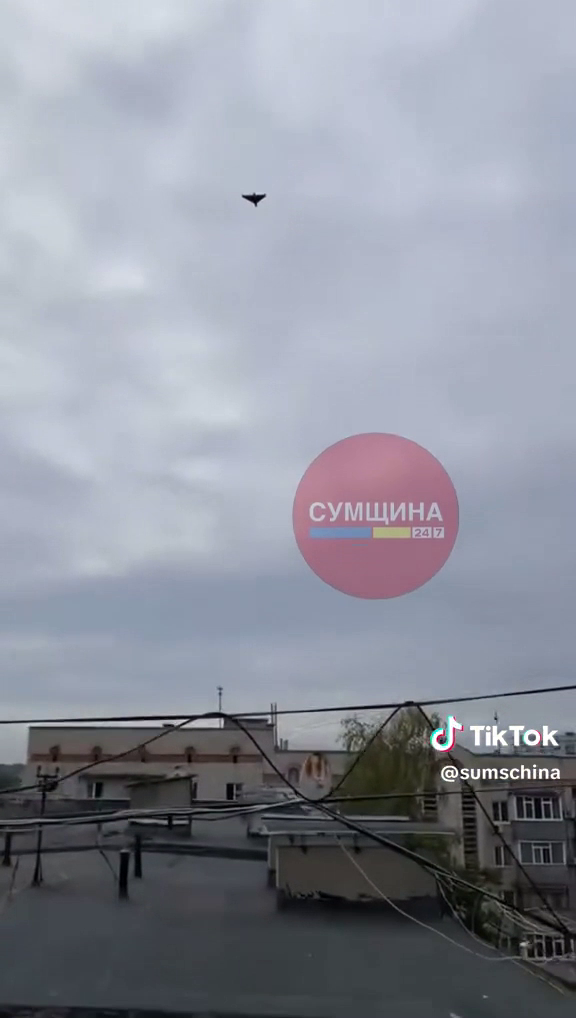shahed: (237, 189, 272, 211)
